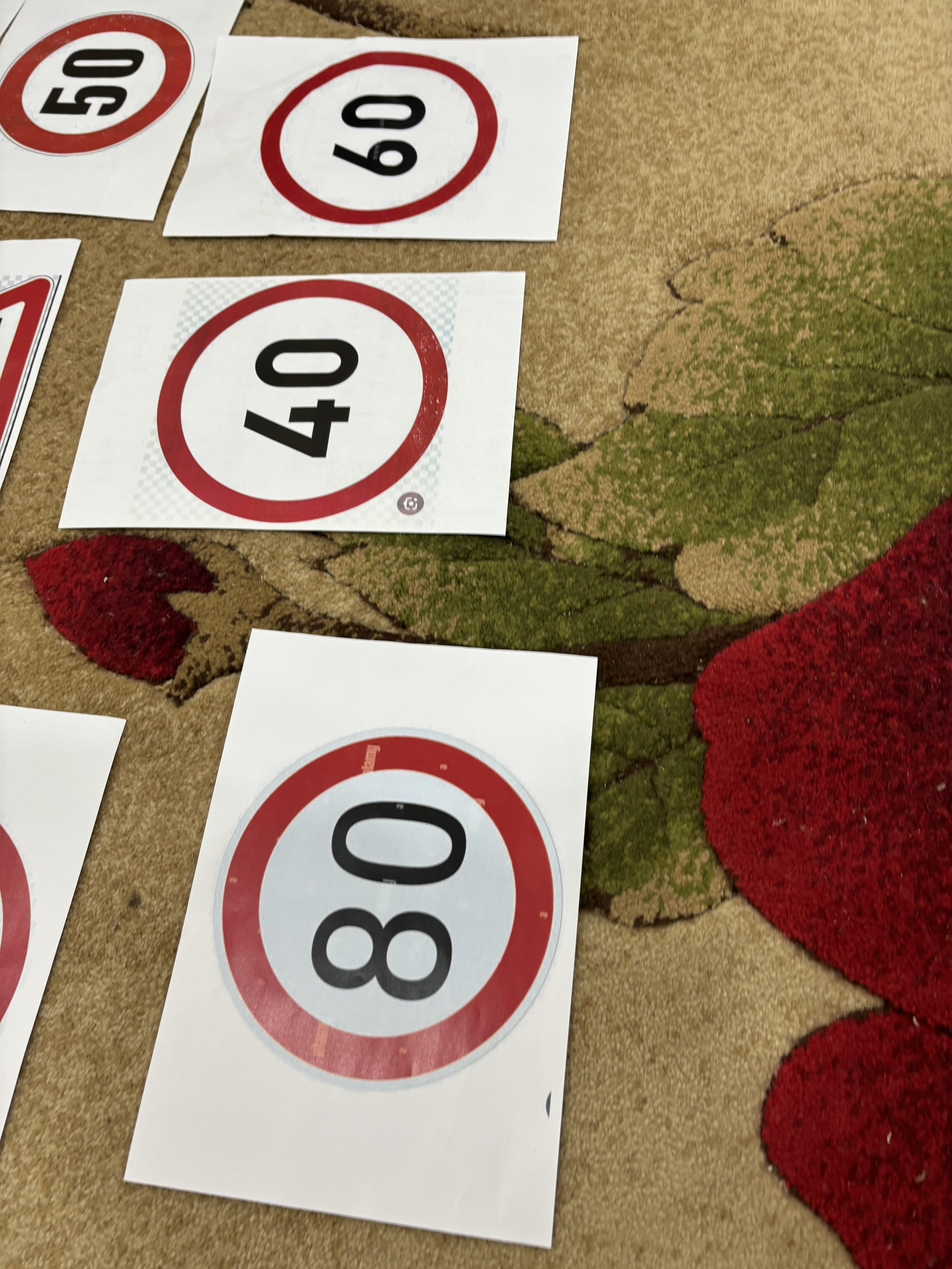40-Speed: (154, 278, 450, 522)
50-Speed: (0, 12, 198, 156)
60-Speed: (269, 45, 507, 230)
80-Speed: (218, 720, 564, 1098)
